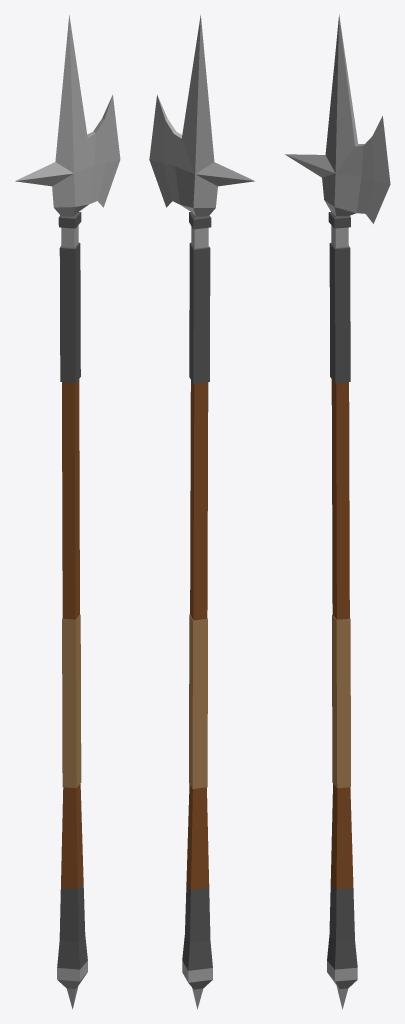
File: alabarda.glb
3 views of the same model, side by side, from view 1: azimuth 30°, elevation 25°; view 2: azimuth 150°, elevation 25°; view 3: azimuth 330°, elevation 25° (orthographic).
Parts seen in each view (by area): view 1: Halberd; view 2: Halberd; view 3: Halberd.
Boxes of the visible parts, left/top/right/bottom form: Halberd: left=15, top=15, right=120, bottom=1009; Halberd: left=149, top=14, right=254, bottom=1009; Halberd: left=285, top=14, right=390, bottom=1009.
Bounding box in the file's own units: 0.2919 × 2.62 × 0.0806.
